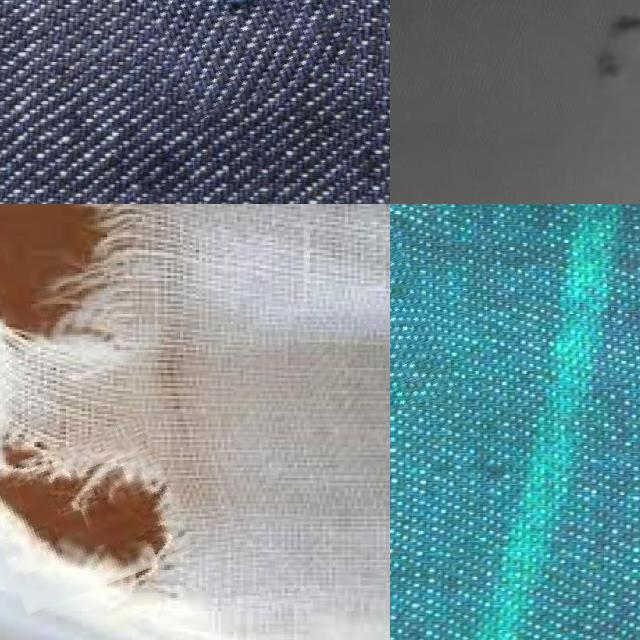Thread_other: (533, 0, 640, 160)
other: (0, 427, 183, 600), (0, 204, 120, 348)
stains: (131, 0, 342, 109), (390, 205, 440, 435)
